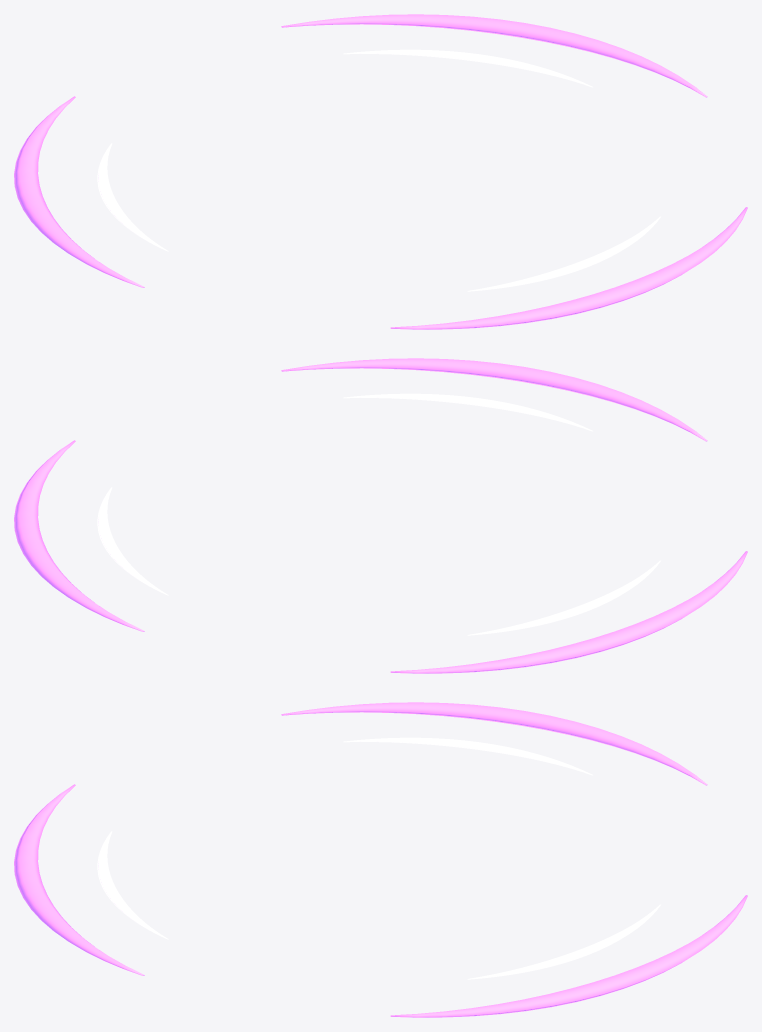
The model's file is berry-singularity-arcs.glb.
3 views of the same model, one above another, from view 1: azimuth 30°, elevation 25°; view 2: azimuth 150°, elevation 25°; view 3: azimuth 270°, elevation 25° (orthographic).
Visible parts, largest first — view 1: berry-singularity-arcs; view 2: berry-singularity-arcs; view 3: berry-singularity-arcs.
Part boxes in pixels (x1,y1,x2,y2): berry-singularity-arcs: [14, 14, 747, 329]; berry-singularity-arcs: [14, 358, 747, 673]; berry-singularity-arcs: [14, 702, 747, 1017].
Bounding box in the file's own units: 2.03 × 0.0291 × 2.01.
